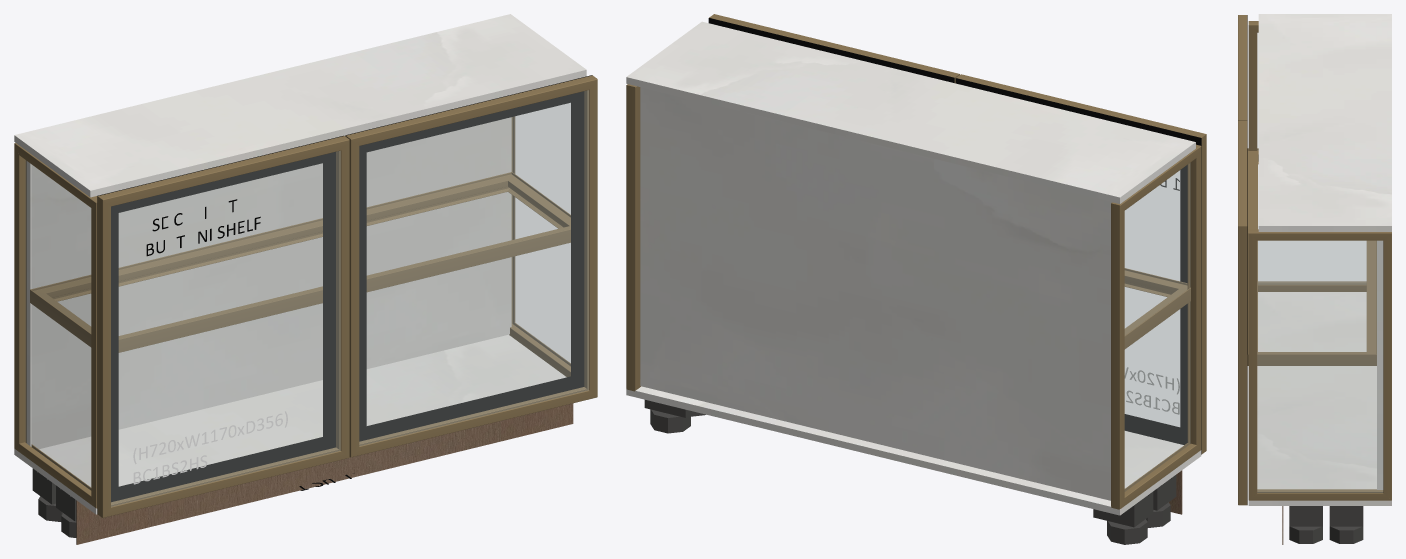
The model's file is BC-BS-STD-GL-1SG-XXX-XXX-1170-720-336-15.glb.
3 views of the same model, side by side, from view 1: azimuth 30°, elevation 25°; view 2: azimuth 150°, elevation 25°; view 3: azimuth 270°, elevation 25° (orthographic). The views are drawn at different scales.
Parts seen in each view (by area): view 1: TP_node_0, Object_node_18, Object_node_14, TP_node, Neon 22 Profile ALU PROF NEON 20 L21XH22.5MM 3MTR S2/405 SEC (×14), TP, Object_node_24, ALU LIGHT PROFILE S2422-D698 WITHOUT ANODISED 3 MTR W1.65 KG (×4), Object_node_20, Object_node_16, Object_node_22, Object_node_34 (+2 smaller); view 2: TP_node_0, TP_node, Neon 22 Profile ALU PROF NEON 20 L21XH22.5MM 3MTR S2/405 SEC (×8), Object_node_24, Object_node_14, TP, Object_node_16, ALU LIGHT PROFILE S2422-D698 WITHOUT ANODISED 3 MTR W1.65 KG (×2), Object_node_20, Plate, Foot, Foot_node; view 3: Object_node_34, TP_node, TP, Neon 22 Profile ALU PROF NEON 20 L21XH22.5MM 3MTR S2/405 SEC (×9), Object_node_24, ALU LIGHT PROFILE S2422-D698 WITHOUT ANODISED 3 MTR W1.65 KG (×3), TP_node_0, Plate_node, Plate_node_1, Foot_node, Foot_node_1, Object_node_20.
Boxes of the visible parts, x1,y1,x2,y2 form: TP_node_0: (26, 117, 511, 448); Object_node_18: (359, 90, 588, 445); Object_node_14: (111, 151, 340, 506); TP_node: (14, 14, 586, 197); Neon 22 Profile ALU PROF NEON 20 L21XH22.5MM 3MTR S2/405 SEC (×14): (14, 75, 597, 517); TP: (14, 334, 566, 514); Object_node_24: (25, 160, 90, 489); ALU LIGHT PROFILE S2422-D698 WITHOUT ANODISED 3 MTR W1.65 KG (×4): (30, 172, 570, 352); Object_node_20: (345, 75, 592, 441); Object_node_16: (97, 135, 343, 513); Object_node_22: (76, 403, 573, 544); Object_node_34: (515, 103, 570, 362); TP_node_0: (640, 87, 1111, 500); TP_node: (626, 21, 1195, 203); Neon 22 Profile ALU PROF NEON 20 L21XH22.5MM 3MTR S2/405 SEC (×8): (626, 14, 1206, 509); Object_node_24: (1125, 163, 1190, 490); Object_node_14: (1125, 171, 1179, 426); TP: (626, 386, 1201, 515); Object_node_16: (955, 78, 1201, 454); ALU LIGHT PROFILE S2422-D698 WITHOUT ANODISED 3 MTR W1.65 KG (×2): (1124, 268, 1190, 349); Object_node_20: (708, 18, 954, 82); Plate: (1093, 491, 1153, 527); Foot: (1107, 519, 1147, 544); Foot_node: (650, 409, 690, 433); Object_node_34: (1257, 241, 1382, 492); TP_node: (1258, 14, 1391, 231); TP: (1248, 292, 1391, 505); Neon 22 Profile ALU PROF NEON 20 L21XH22.5MM 3MTR S2/405 SEC (×9): (1238, 15, 1391, 505); Object_node_24: (1257, 33, 1365, 284); ALU LIGHT PROFILE S2422-D698 WITHOUT ANODISED 3 MTR W1.65 KG (×3): (1247, 148, 1376, 365); TP_node_0: (1377, 240, 1383, 489); Plate_node: (1329, 506, 1363, 526); Plate_node_1: (1289, 506, 1322, 526); Foot_node: (1329, 526, 1363, 543); Foot_node_1: (1289, 526, 1322, 543); Object_node_20: (1247, 121, 1247, 504).
Size of what is drawn, in the model's own units: 1.17 by 0.82 by 0.3659.
Materials: 8 (2 with a texture image).
